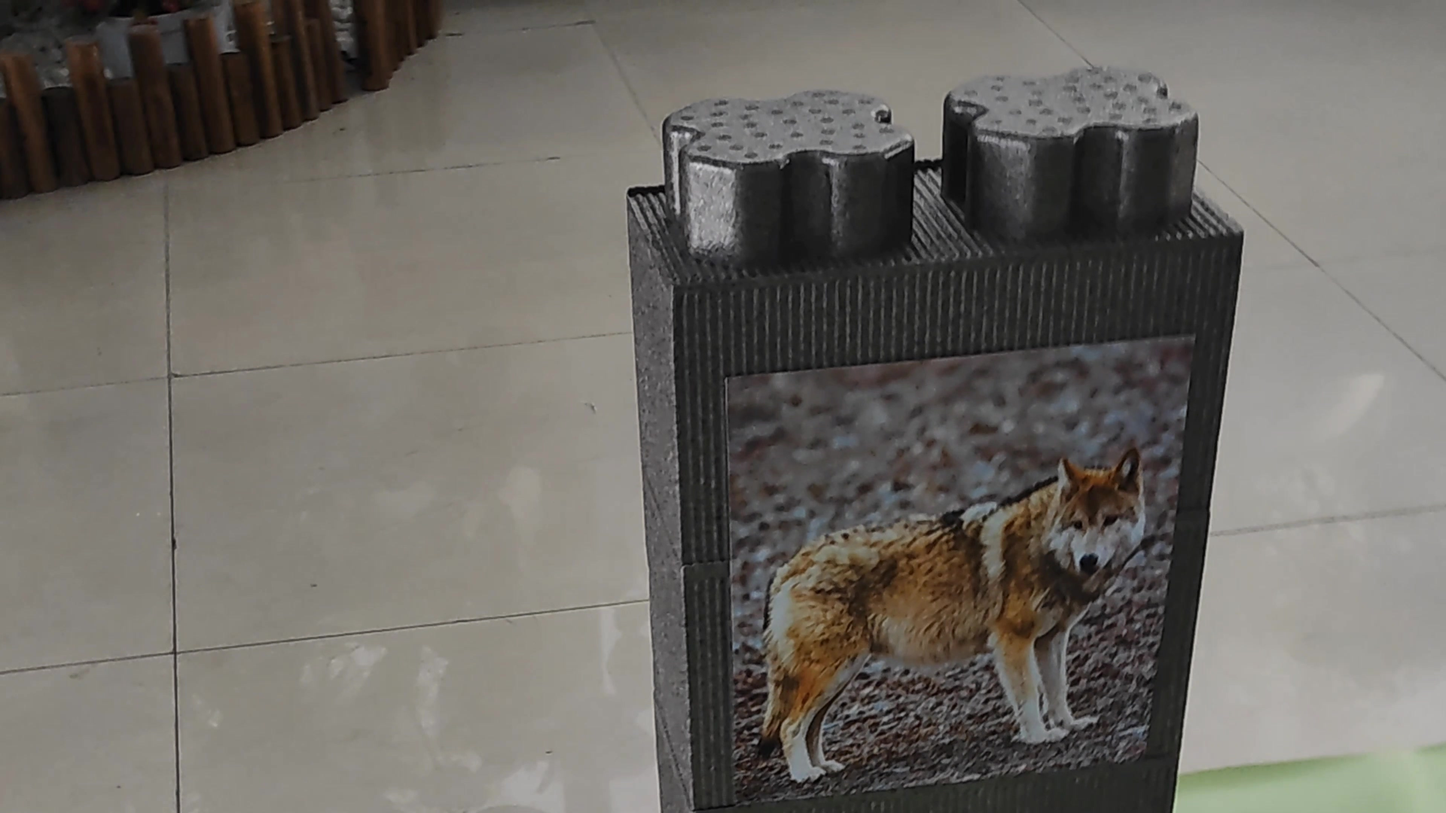wolf: (744, 410, 1158, 781)
